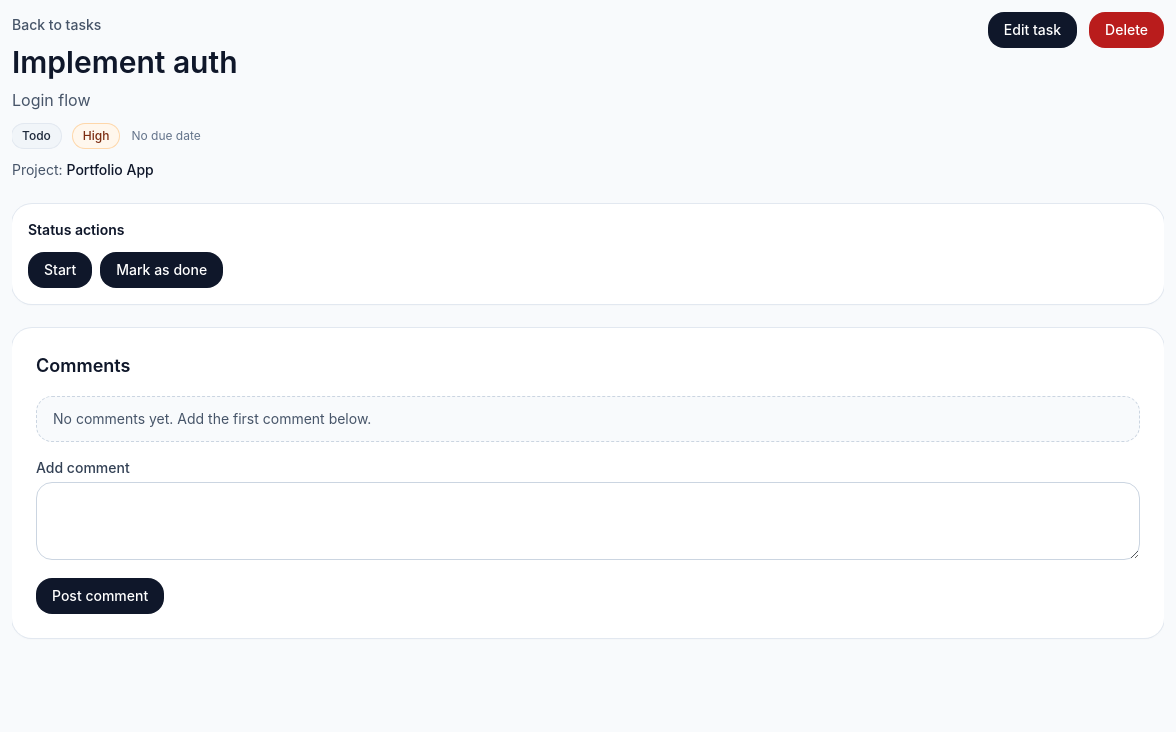
it: TaskDetailsPanel › updates task status from status actions
Expected: the heading "Implement auth" is shown, x1=12 y1=44 x2=238 y2=80
Click the button "Start" at (60, 270), box x1=28 y1=252 x2=92 y2=288
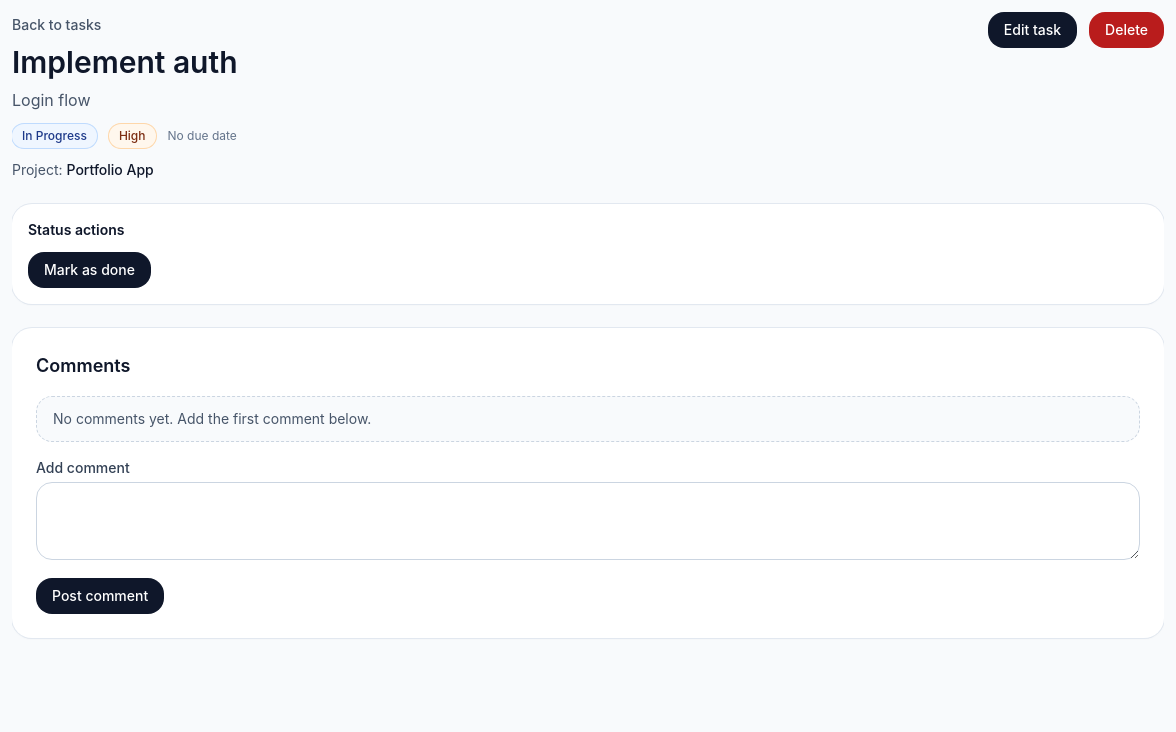
Now the text "In Progress" is shown, box x1=12 y1=124 x2=97 y2=148
